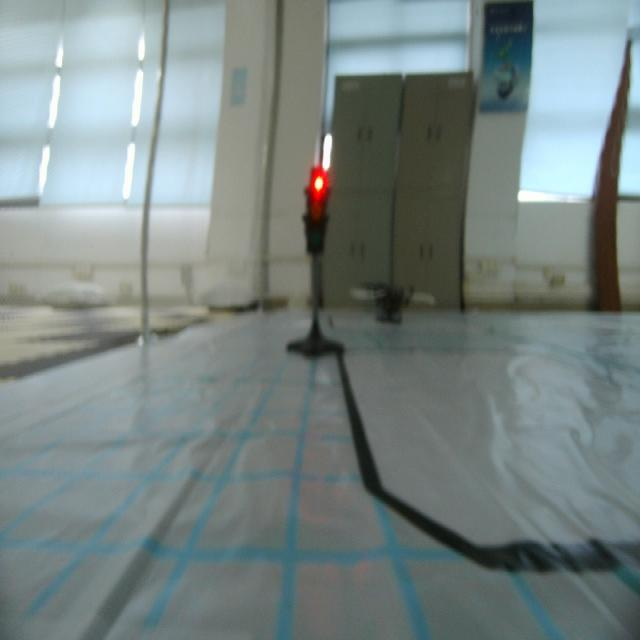red: (305, 166, 329, 262)
